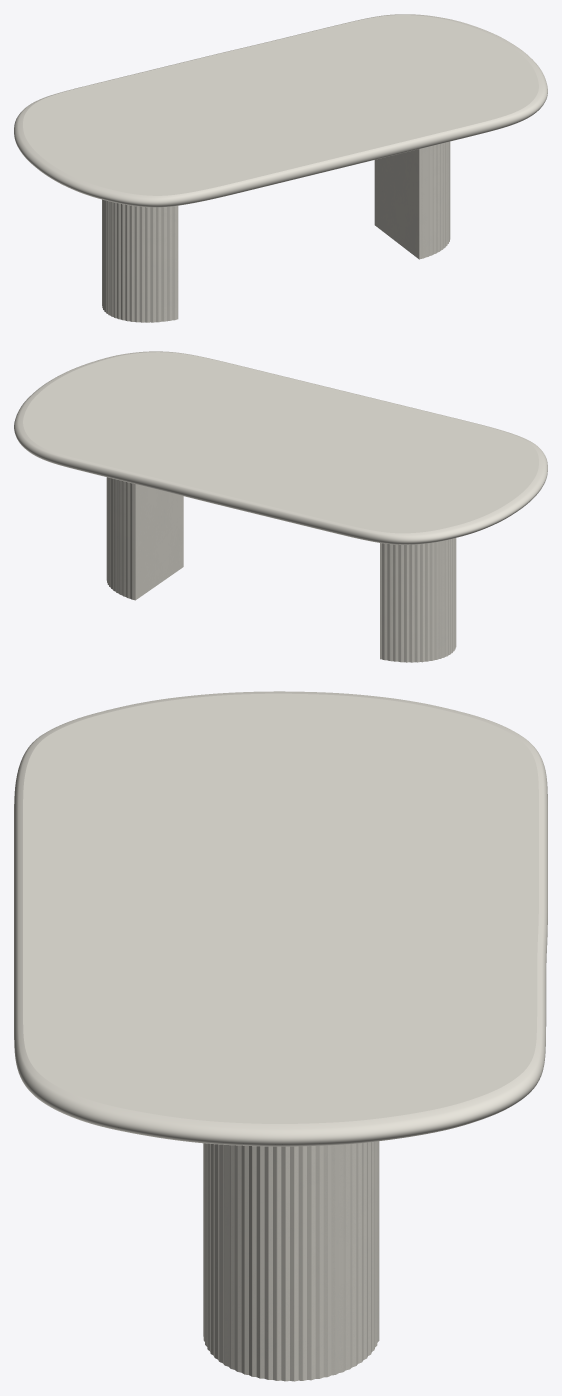
File: pale_oval_round_flute.glb
3 views of the same model, one above another, from view 1: azimuth 30°, elevation 25°; view 2: azimuth 150°, elevation 25°; view 3: azimuth 270°, elevation 25° (orthographic). The views are drawn at different scales.
Visible parts, largest first — view 1: round_oval, flute; view 2: round_oval, flute; view 3: round_oval, flute.
Part boxes in pixels (x1,y1,x2,y2): round_oval: (14, 14, 547, 207); flute: (102, 141, 450, 322); round_oval: (14, 351, 547, 544); flute: (106, 477, 456, 662); round_oval: (14, 691, 547, 1146); flute: (203, 1141, 379, 1381).
Bounding box in the file's own units: 7.5 × 2.5 × 3.8.
1 material, 1 textured.
